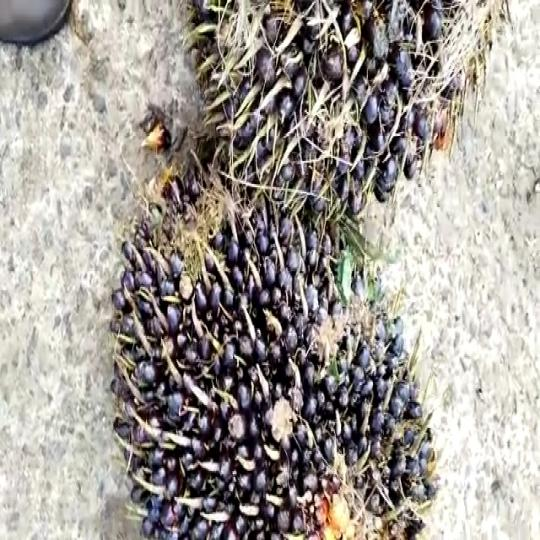mentah: (105, 150, 451, 540), (178, 0, 517, 206)
